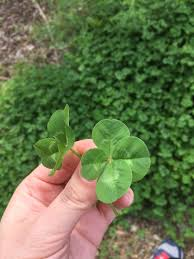4-clover: (80, 120, 151, 201)
